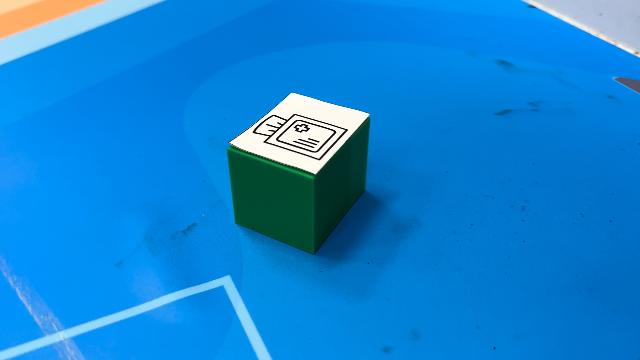napkin: (225, 90, 372, 256)
